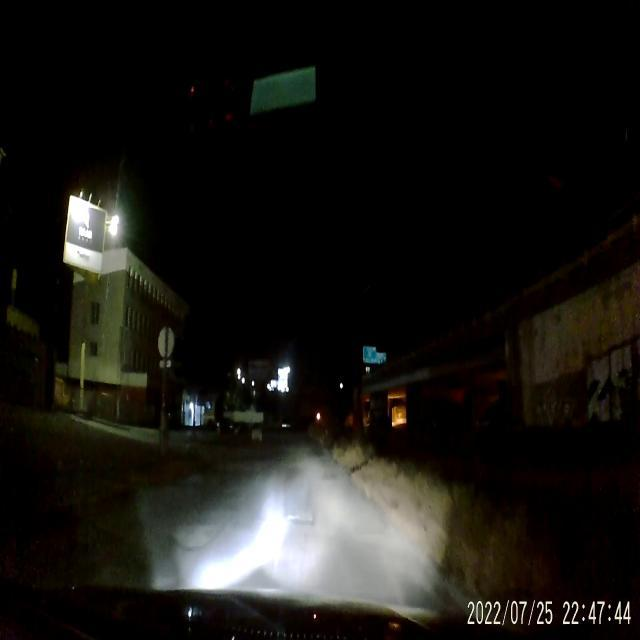Pothole: (177, 514, 209, 560), (286, 506, 316, 528)
